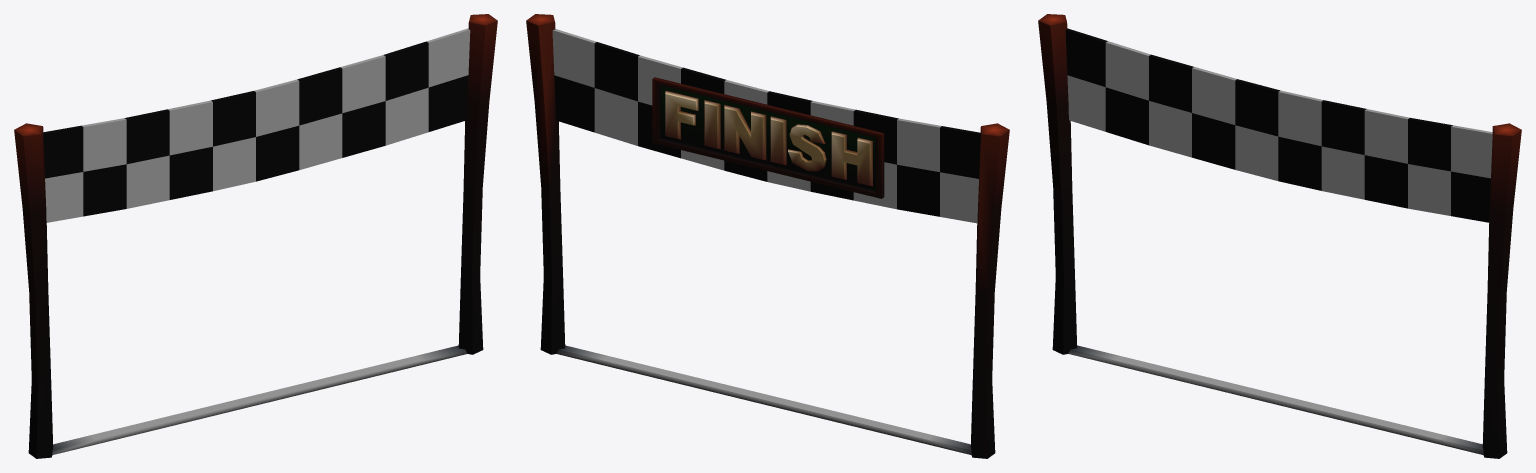
Rendered from finishLine.glb.
The picture shows the model from 3 angles, left to right: view 1: azimuth 30°, elevation 25°; view 2: azimuth 150°, elevation 25°; view 3: azimuth 330°, elevation 25°; orthographic projection.
Parts seen in each view (by area): view 1: GPL_goal_02; view 2: GPL_goal_02; view 3: GPL_goal_02.
Boxes of the visible parts, left/top/right/bottom form: GPL_goal_02: left=14, top=14, right=497, bottom=458; GPL_goal_02: left=526, top=14, right=1009, bottom=458; GPL_goal_02: left=1038, top=14, right=1521, bottom=458.
Bounding box in the file's own units: 11.12 × 7.33 × 0.6035.
1 material, 1 textured.
